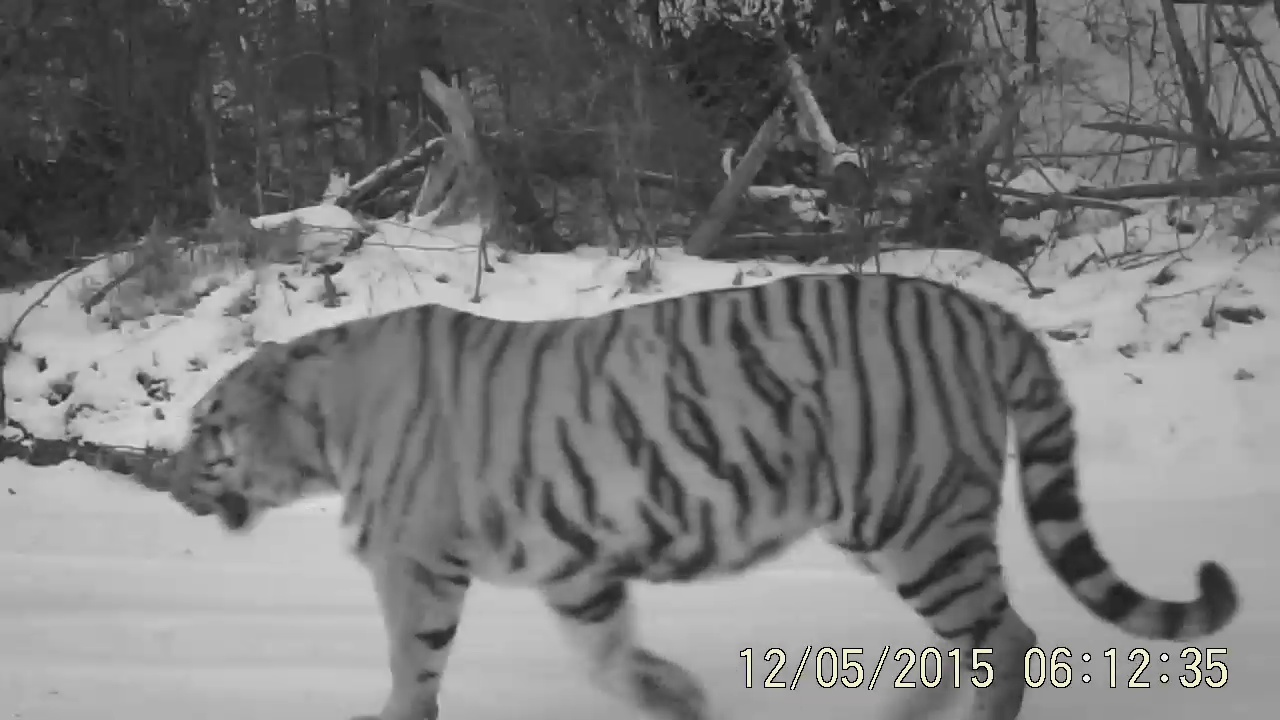Tiger: (99, 264, 1280, 720)
